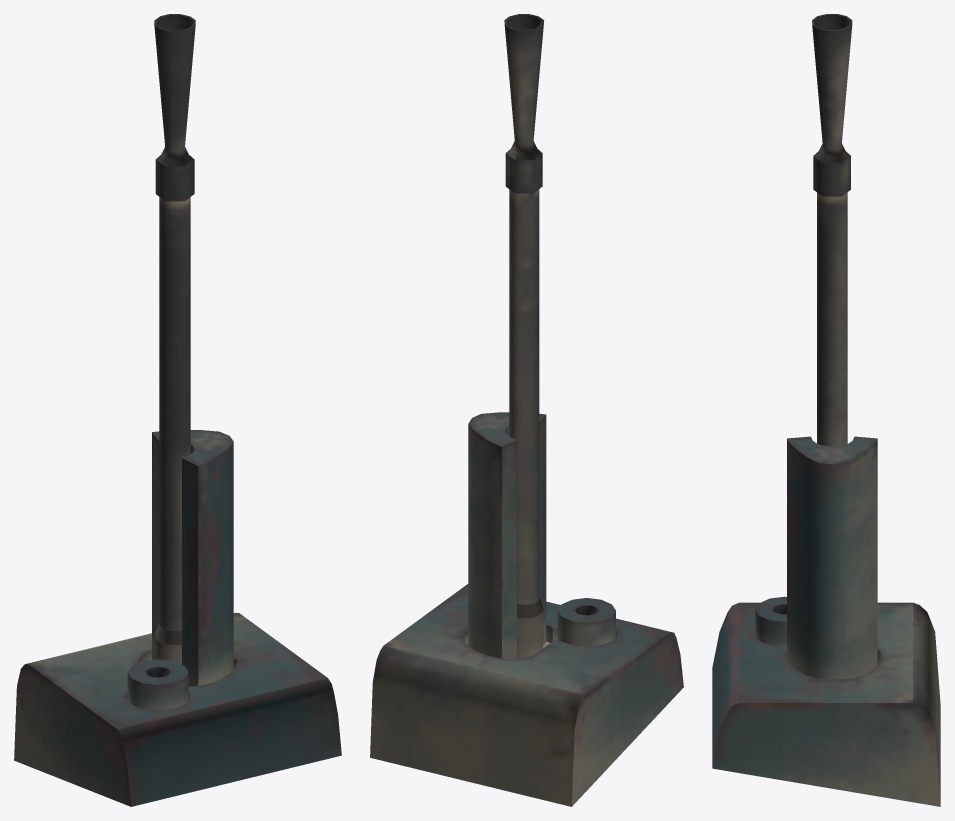
Rendered from Gun_02.glb.
The picture shows the model from 3 angles, left to right: view 1: azimuth 30°, elevation 25°; view 2: azimuth 150°, elevation 25°; view 3: azimuth 270°, elevation 25°; orthographic projection. The views are drawn at different scales.
Parts seen in each view (by area): view 1: set_0_group_0; view 2: set_0_group_0; view 3: set_0_group_0.
Boxes of the visible parts, x1,y1,x2,y2 form: set_0_group_0: (14, 14, 341, 806); set_0_group_0: (370, 14, 683, 806); set_0_group_0: (712, 14, 940, 806).
Bounding box in the file's own units: 0.28 × 0.9561 × 0.2697.
Materials: 1 (1 with a texture image).
